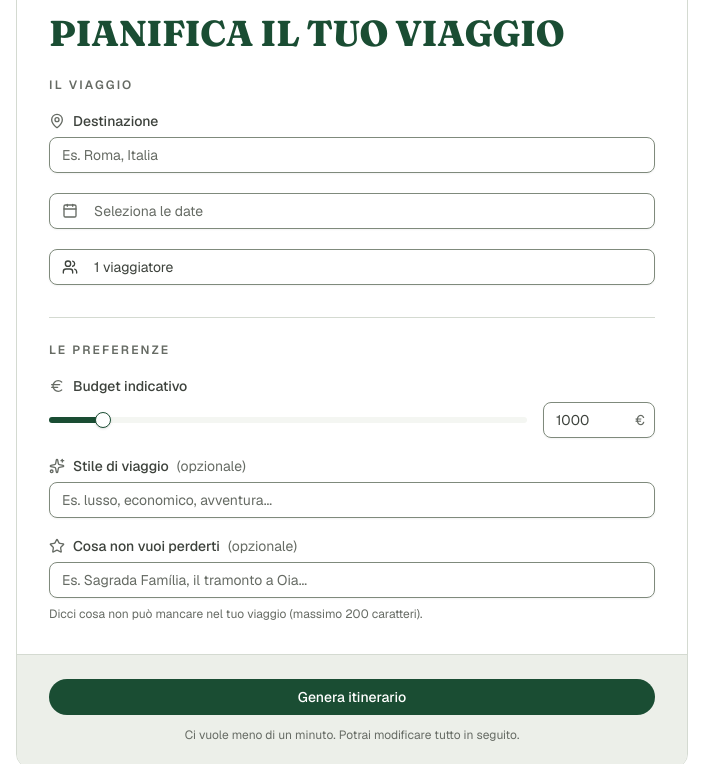
ItineraryForm — errori di validazione › collega ogni messaggio al campo che lo ha prodotto
(page scrolled)
Click the button "Genera itinerario" at (352, 697), box [49, 679, 655, 715]
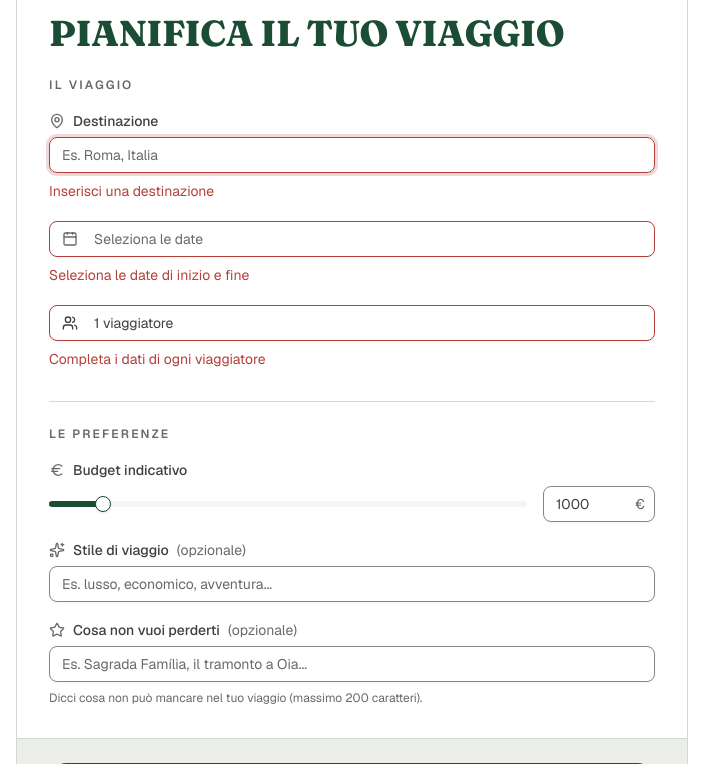
Now the message "Inserisci una destinazione" is shown, box [49, 182, 214, 200]
Now the message "Seleziona le date di inizio e fine" is shown, box [49, 266, 249, 284]
Now the message "Completa i dati di ogni viaggiatore" is shown, box [49, 350, 266, 368]
